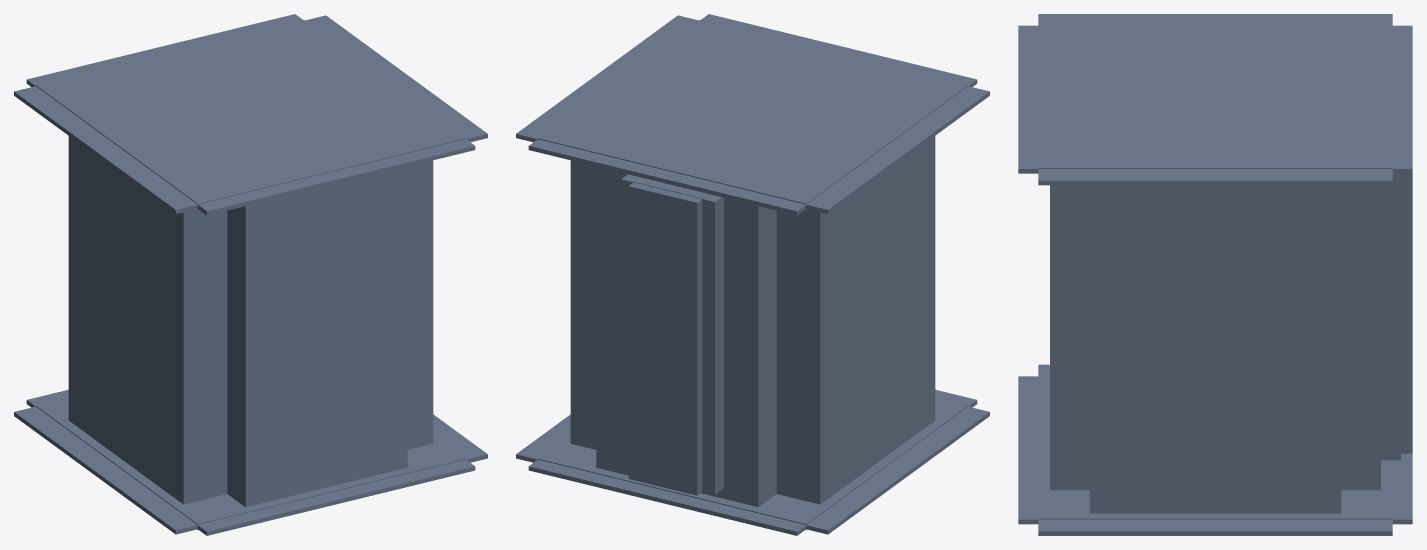
Rendered from bb_comp_GripRig_RigUpright.fbx.
The picture shows the model from 3 angles, left to right: view 1: azimuth 30°, elevation 25°; view 2: azimuth 150°, elevation 25°; view 3: azimuth 270°, elevation 25°; orthographic projection. The views are drawn at different scales.
Visible parts, largest first — view 1: bb_comp_GripRig_RigUpright; view 2: bb_comp_GripRig_RigUpright; view 3: bb_comp_GripRig_RigUpright.
Part boxes in pixels (x1,y1,x2,y2): bb_comp_GripRig_RigUpright: [14, 14, 487, 535]; bb_comp_GripRig_RigUpright: [516, 14, 989, 535]; bb_comp_GripRig_RigUpright: [1018, 14, 1412, 535].
Size of the model in its own units: 1 by 1 by 1.
